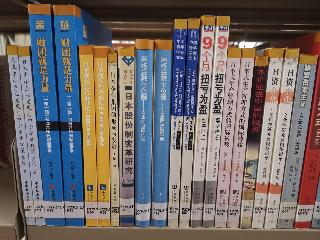book-spine: (24, 3, 66, 229), (274, 53, 318, 231), (260, 46, 301, 230), (54, 4, 85, 227), (248, 46, 285, 230), (201, 16, 231, 229), (225, 46, 256, 230), (7, 45, 36, 229), (190, 15, 215, 228), (17, 46, 46, 227), (129, 39, 156, 228), (214, 47, 241, 230), (240, 55, 267, 230), (148, 40, 172, 228), (293, 71, 320, 230), (178, 18, 198, 228), (168, 20, 187, 228), (78, 43, 99, 228), (115, 46, 136, 229), (92, 45, 112, 227), (106, 51, 119, 227)
